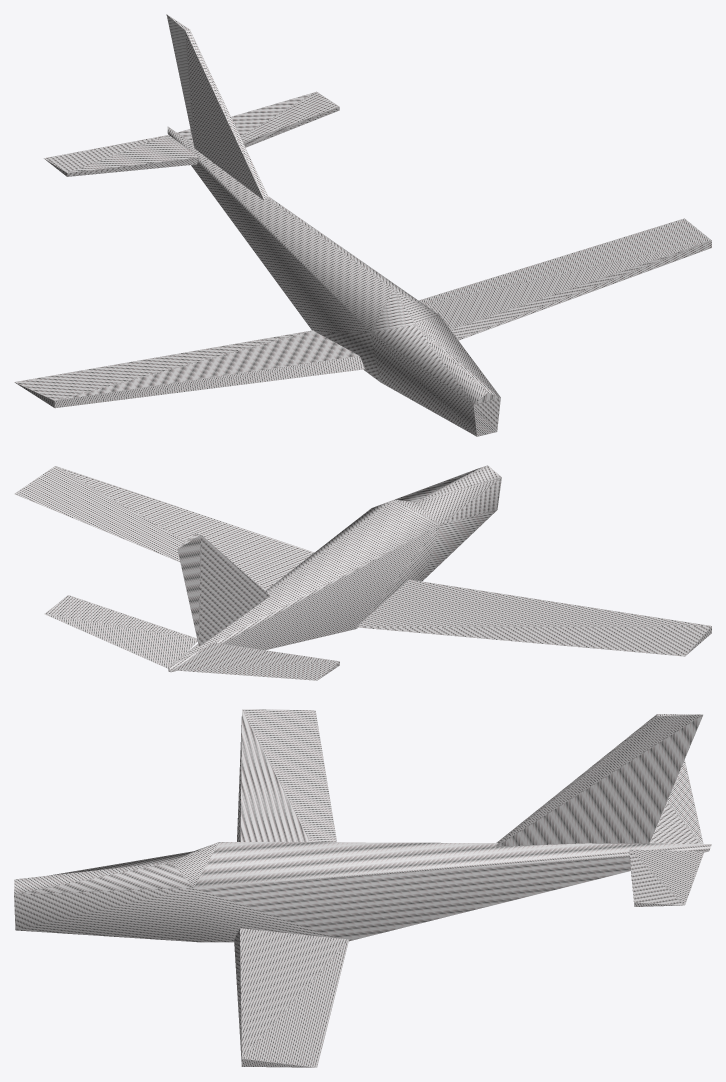
File: TBM930_LOD06.gltf
3 renders of one model, top to bottom at view 1: azimuth 30°, elevation 25°; view 2: azimuth 150°, elevation 25°; view 3: azimuth 270°, elevation 25°, orthographic. The views are drawn at different scales.
Visible parts, largest first — view 1: FUSELAGE; view 2: FUSELAGE; view 3: FUSELAGE.
Boxes of the visible parts, x1,y1,x2,y2 form: FUSELAGE: [14, 14, 711, 436]; FUSELAGE: [14, 465, 711, 680]; FUSELAGE: [14, 709, 711, 1067].
Bounding box in the file's own units: 12.16 × 3.4 × 10.04.
